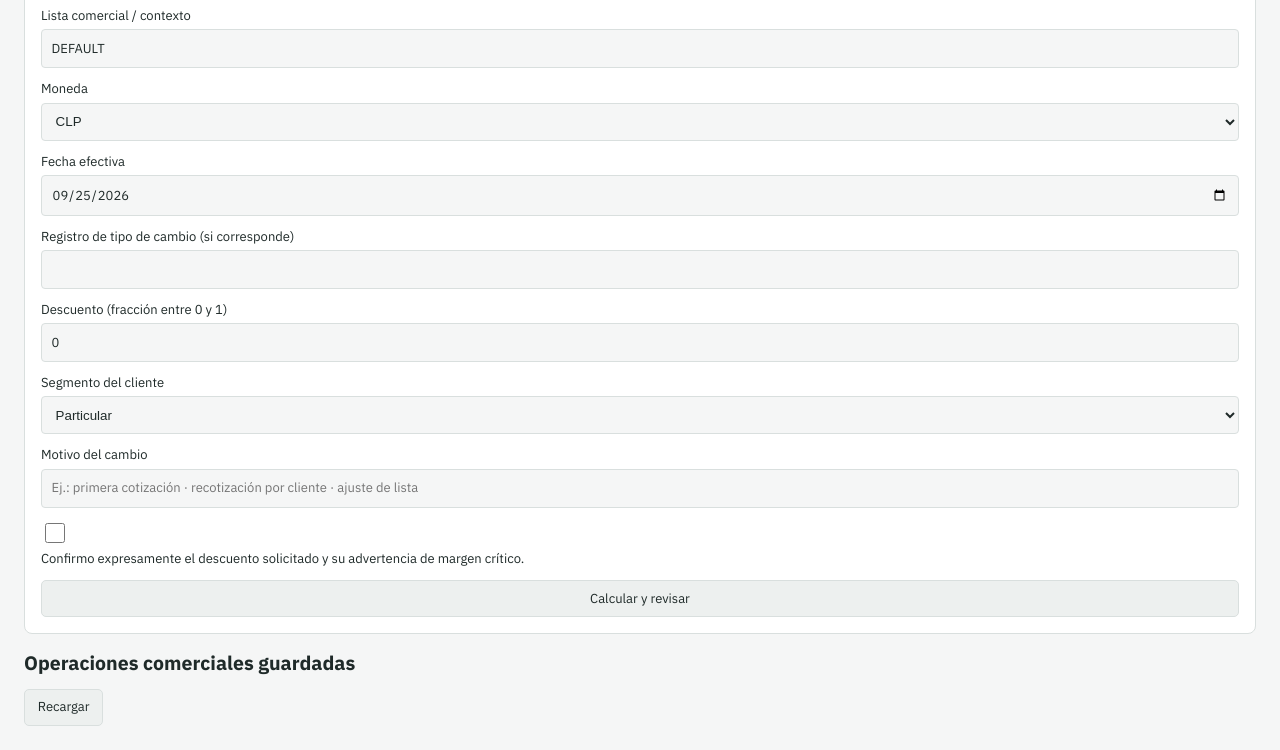
Test: reload B remains authoritative after late reload A
This screenshot has width=1280, height=750.
(page scrolled)
Click the button "Recargar" at (64, 707), box [24,688,103,726]
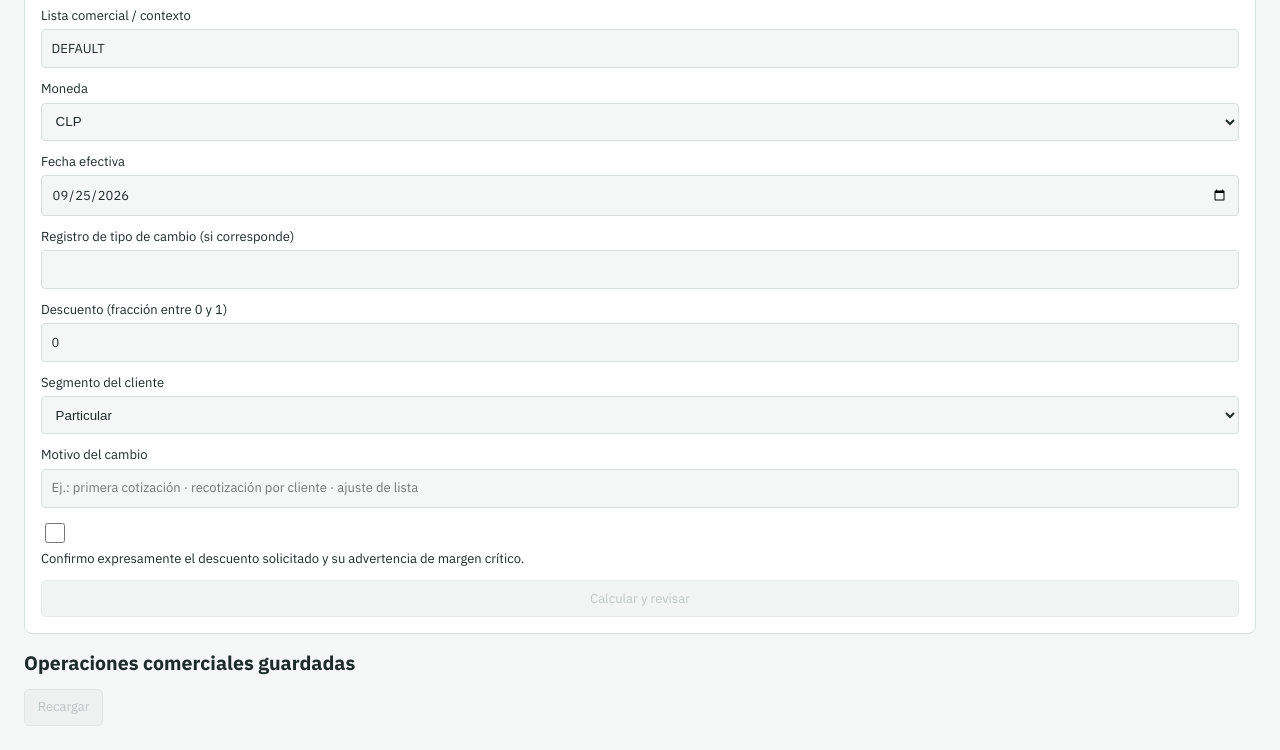
Replace the text in the field labelled "Descuento (fracción entre 0 y 1)" with "0.07" at (640, 343), box [41,323,1239,362]
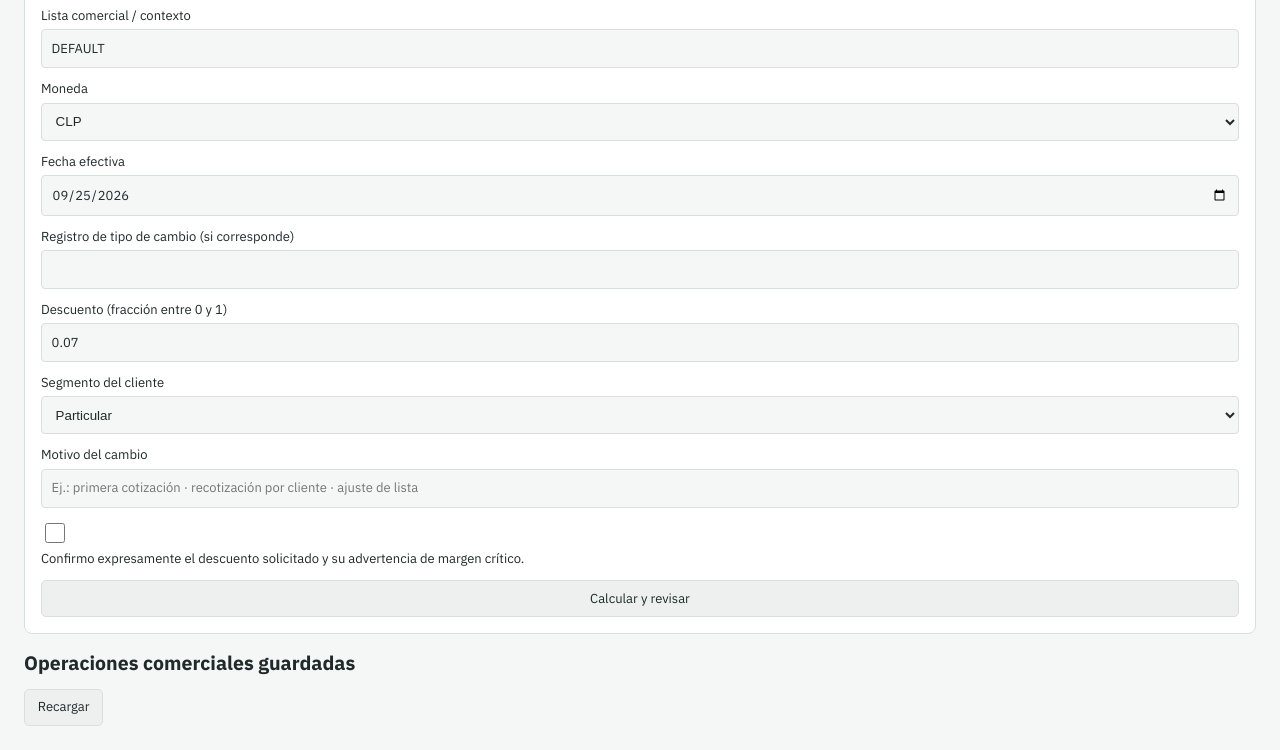
Click the button "Recargar" at (64, 707), box [24,688,103,726]
(page scrolled)
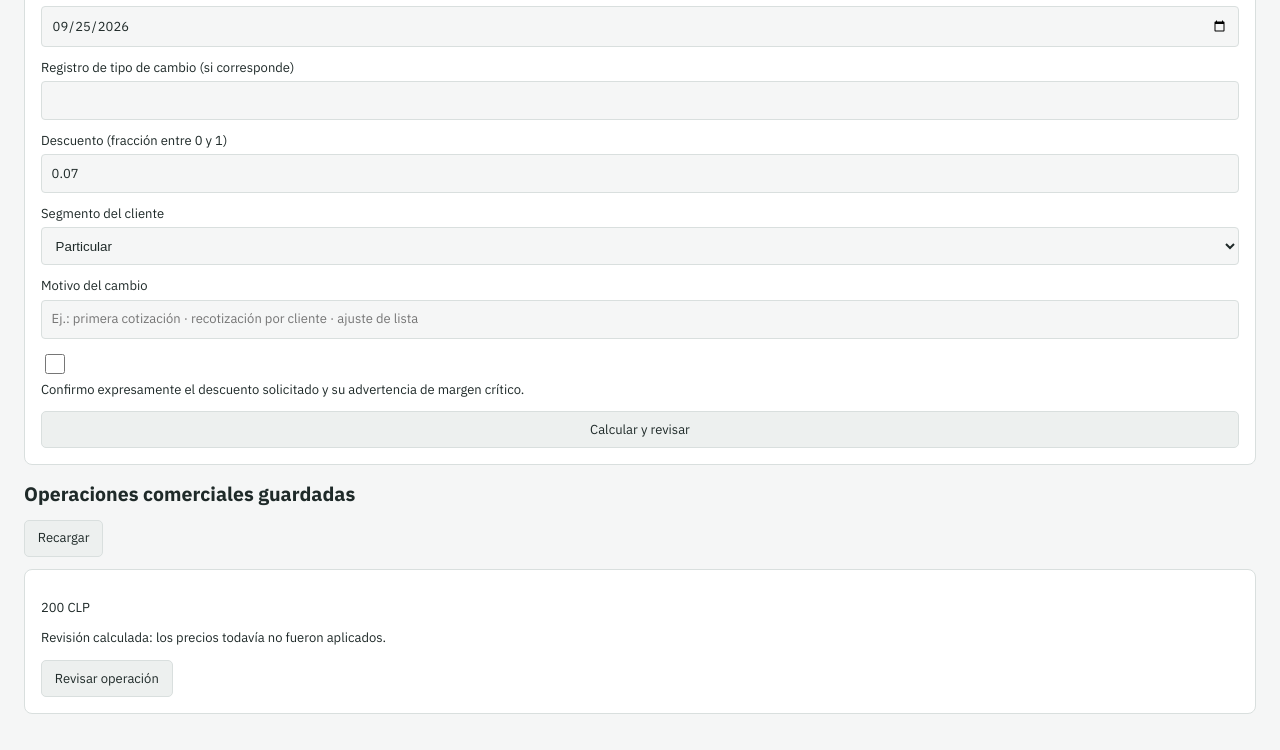
Expected: the text "200 CLP" is shown, [41,599,90,616]
